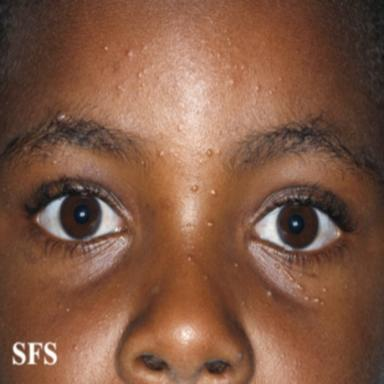Molluscum-Contagiosum: (283, 269, 293, 281), (56, 111, 66, 121), (191, 185, 199, 192), (206, 149, 213, 157), (117, 85, 125, 92), (298, 284, 304, 291), (177, 124, 182, 132), (127, 51, 133, 57), (211, 189, 216, 195), (207, 222, 213, 227), (138, 72, 143, 78), (234, 262, 239, 268), (267, 291, 272, 297), (275, 263, 280, 269), (313, 298, 319, 303), (304, 296, 310, 301), (104, 46, 108, 51), (160, 151, 164, 156), (187, 256, 191, 261), (204, 275, 208, 280), (320, 301, 324, 306), (344, 284, 348, 289), (143, 70, 147, 74), (323, 288, 326, 293)
